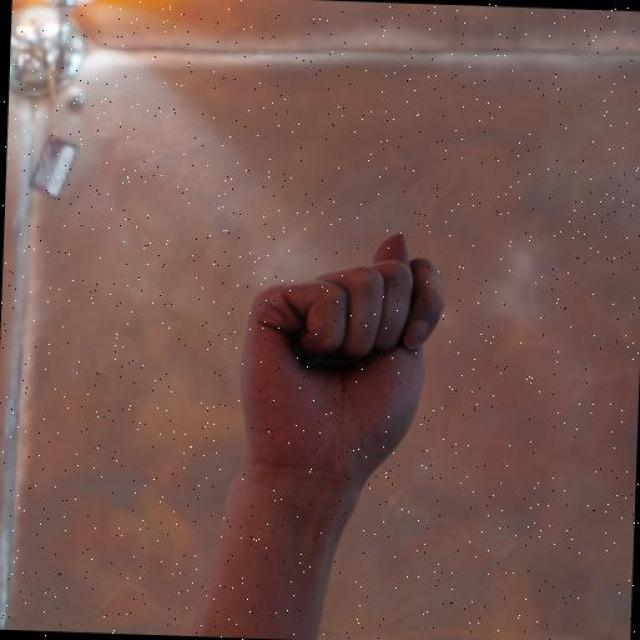S: (227, 222, 452, 493)
